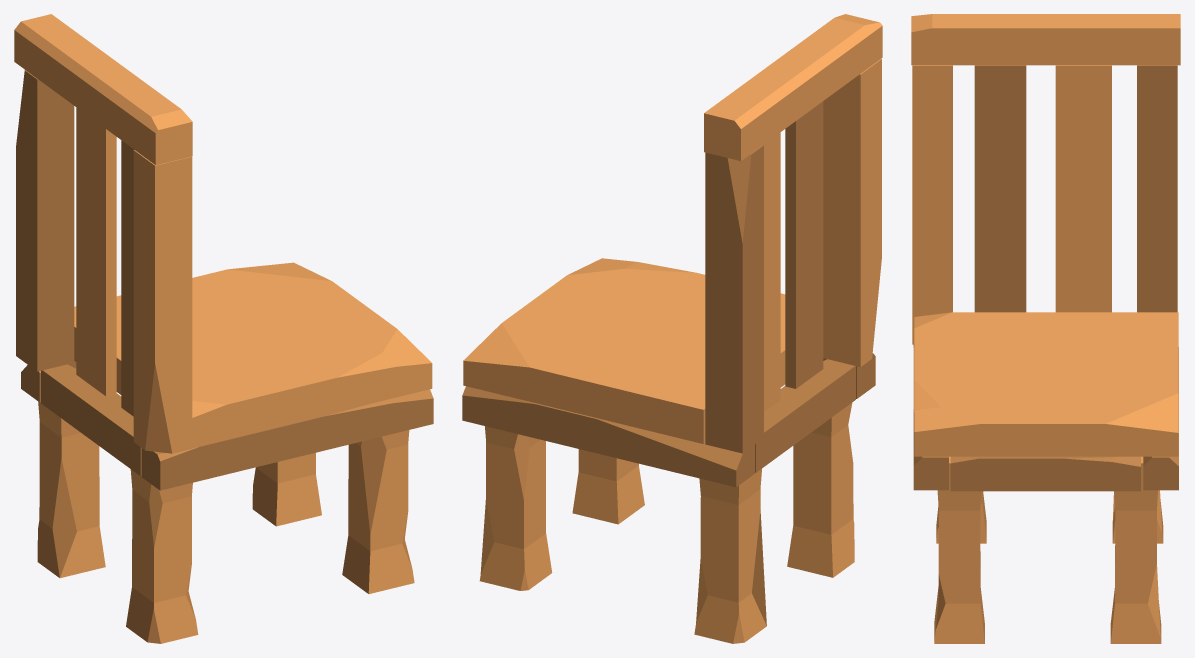
The model's file is Low Poly Chair.fbx.
3 renders of one model, left to right at view 1: azimuth 30°, elevation 25°; view 2: azimuth 150°, elevation 25°; view 3: azimuth 270°, elevation 25°, orthographic. The views are drawn at different scales.
Parts seen in each view (by area): view 1: Cube.012; view 2: Cube.012; view 3: Cube.012.
Part boxes in pixels (bbox=[...]): Cube.012: bbox=[14, 14, 433, 643]; Cube.012: bbox=[462, 14, 882, 643]; Cube.012: bbox=[911, 14, 1180, 643].
Bounding box in the file's own units: 70.71 × 128 × 61.53.
